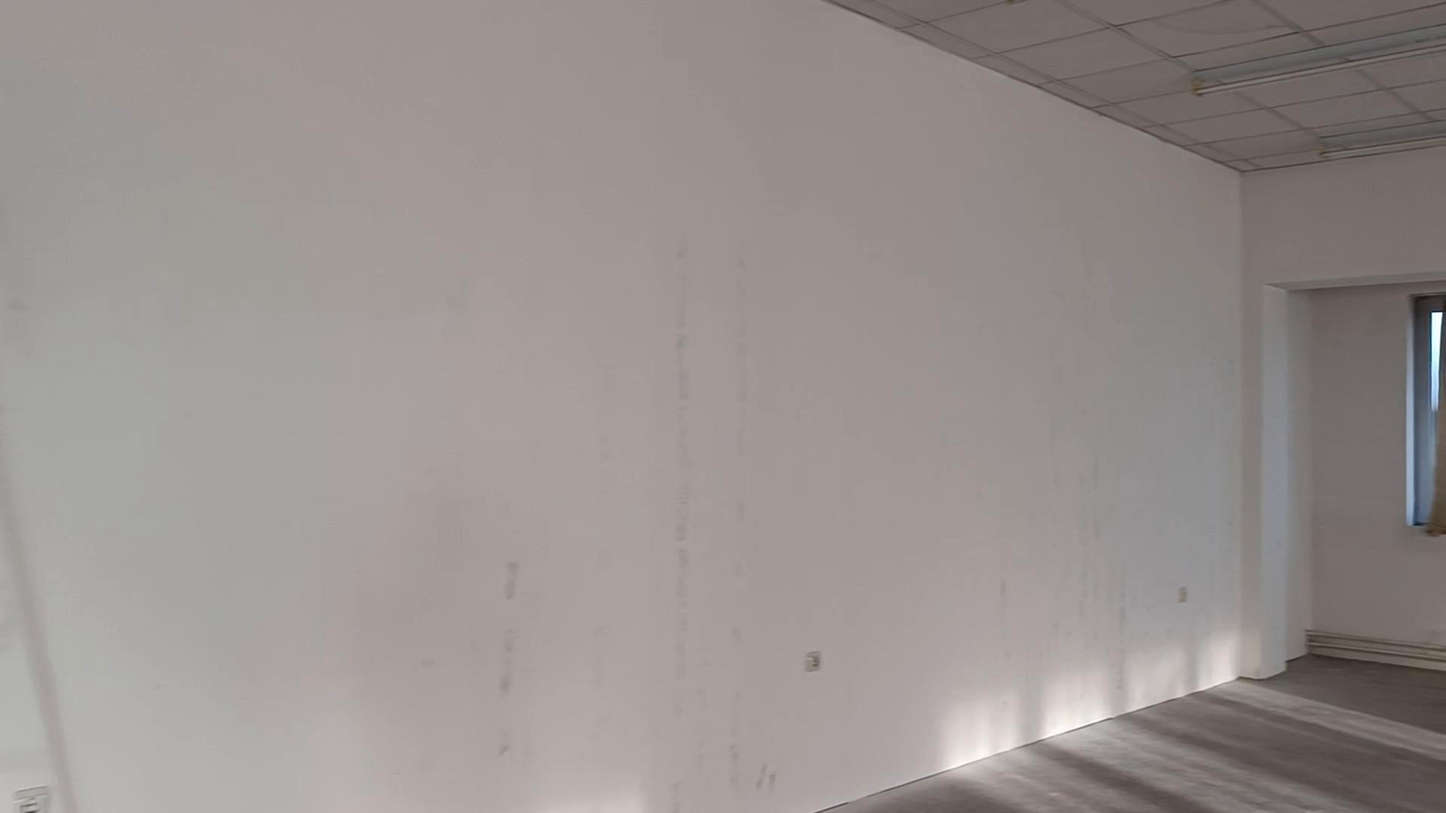ceiling: (829, 0, 1445, 171)
floor: (823, 656, 1445, 812)
wall: (0, 0, 1445, 812), (1254, 177, 1445, 650)
